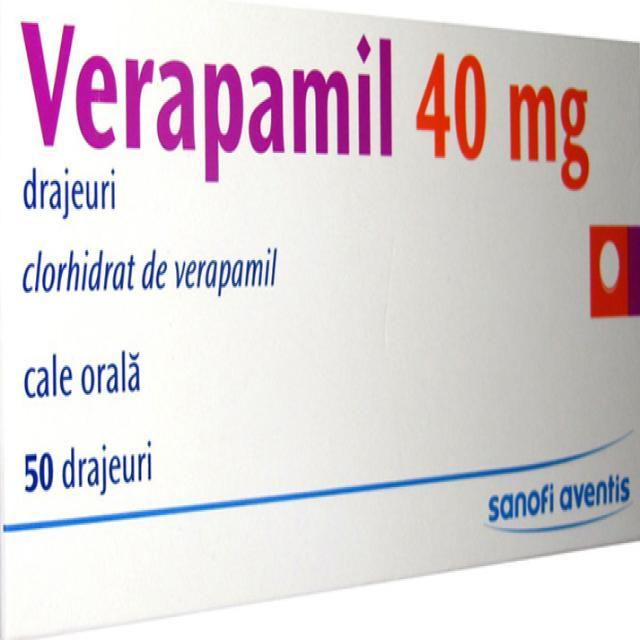drug-name: (19, 15, 406, 186)
